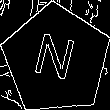N_S: (31, 30, 81, 89)
